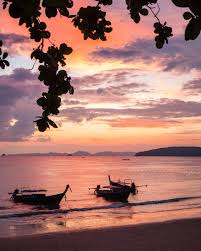boat: (90, 175, 138, 205), (11, 184, 72, 207)
